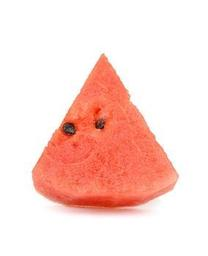watermelon: (30, 52, 182, 209)
